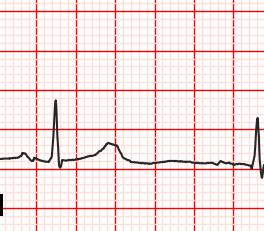LVH: (80, 138, 133, 166)
